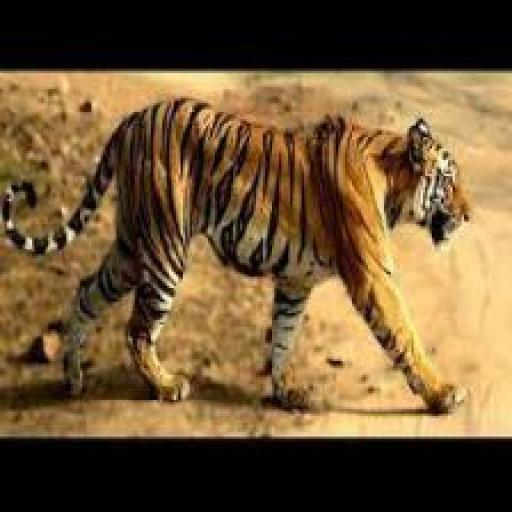Tiger: (0, 98, 475, 418)
